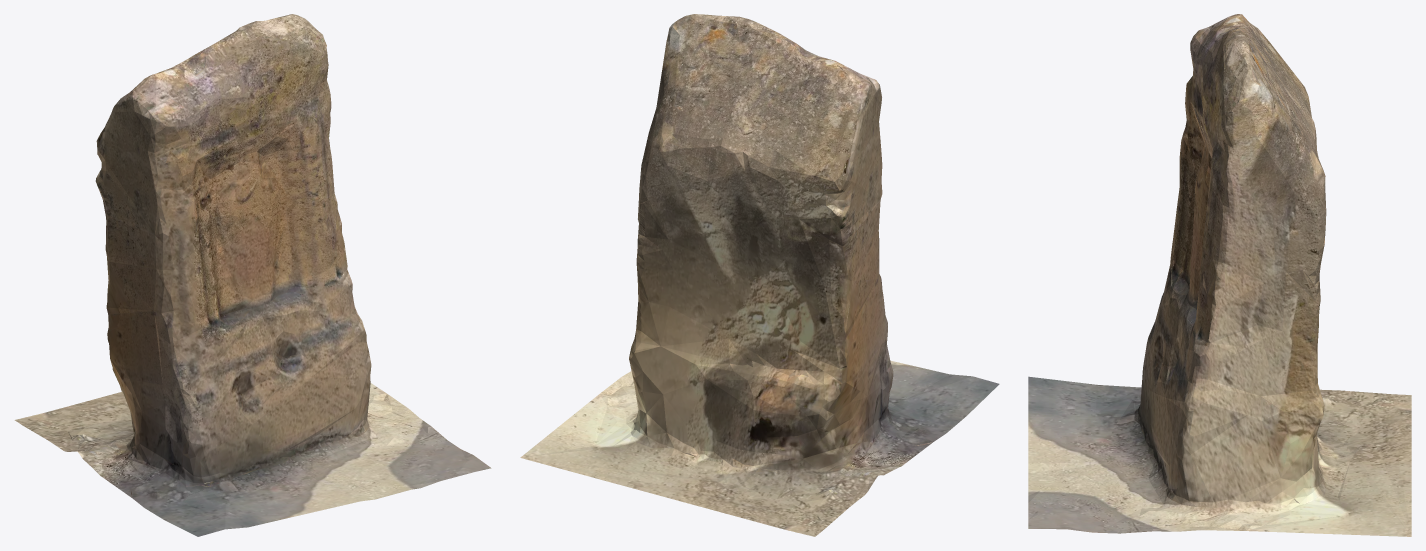
The model's file is punic-stelae-tophet-of-salammbo-carthage.glb.
3 renders of one model, left to right at view 1: azimuth 30°, elevation 25°; view 2: azimuth 150°, elevation 25°; view 3: azimuth 270°, elevation 25°, orthographic. The views are drawn at different scales.
Parts seen in each view (by area): view 1: Target_Stelae_Mat_Opt_0; view 2: Target_Stelae_Mat_Opt_0; view 3: Target_Stelae_Mat_Opt_0.
Part boxes in pixels (box(x1,y1,x2,y2)): Target_Stelae_Mat_Opt_0: box(14, 14, 491, 536); Target_Stelae_Mat_Opt_0: box(520, 14, 999, 536); Target_Stelae_Mat_Opt_0: box(1028, 14, 1411, 536).
Bounding box in the file's own units: 0.6771 × 0.9224 × 0.7346.
Materials: 1 (1 with a texture image).
